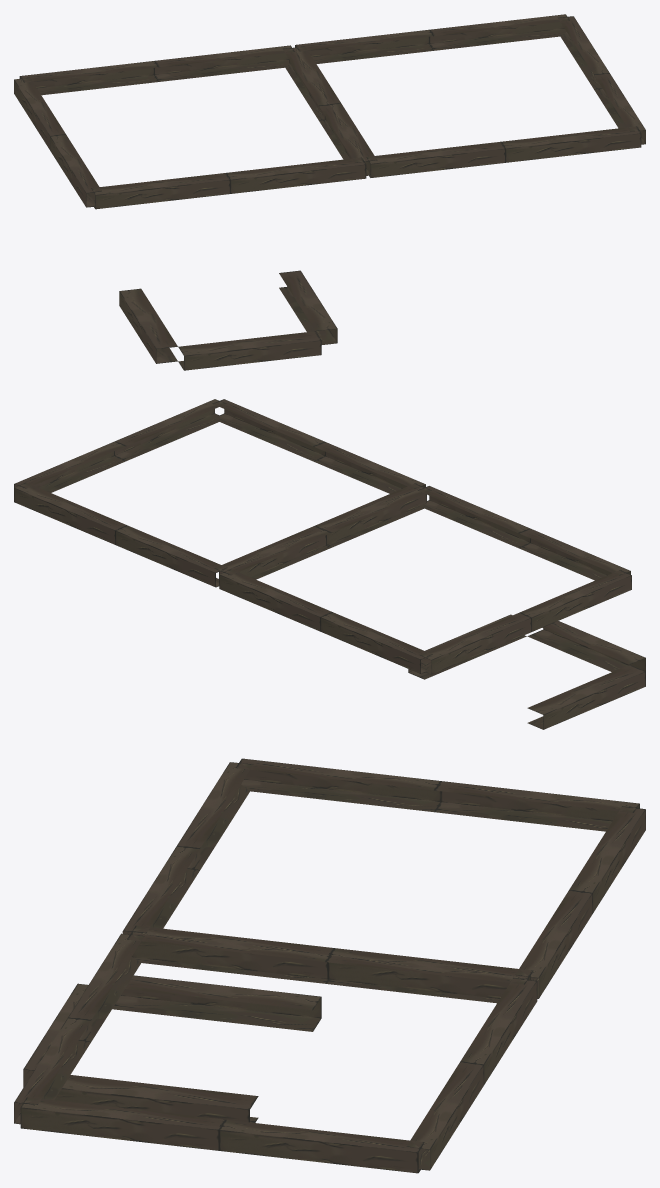
File: polysurface253_txt_poutreh_0_lev1_lev2.glb
3 renders of one model, top to bottom at view 1: azimuth 30°, elevation 25°; view 2: azimuth 150°, elevation 25°; view 3: azimuth 270°, elevation 25°, orthographic. The views are drawn at different scales.
Visible parts, largest first — view 1: polysurface253_txt_poutreh_0_lev1_lev2; view 2: polysurface253_txt_poutreh_0_lev1_lev2; view 3: polysurface253_txt_poutreh_0_lev1_lev2.
Part boxes in pixels (box(x1,y1,x2,y2)): polysurface253_txt_poutreh_0_lev1_lev2: box(14, 14, 645, 370); polysurface253_txt_poutreh_0_lev1_lev2: box(14, 399, 645, 729); polysurface253_txt_poutreh_0_lev1_lev2: box(14, 758, 645, 1173).
Bounding box in the file's own units: 13.61 × 3.49 × 9.22.
1 material, 1 textured.
